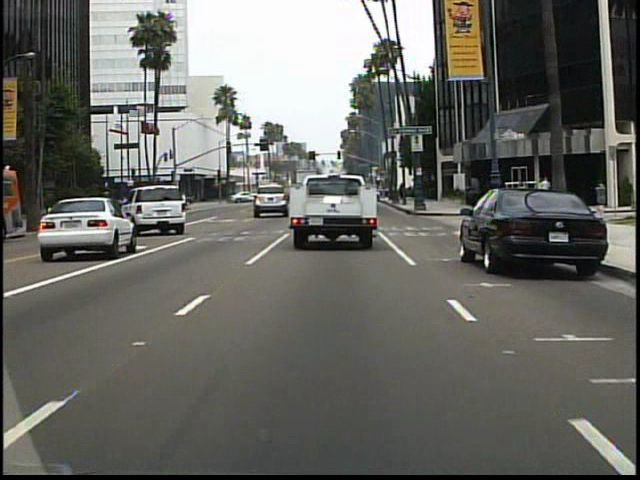person: (540, 175, 555, 213)
